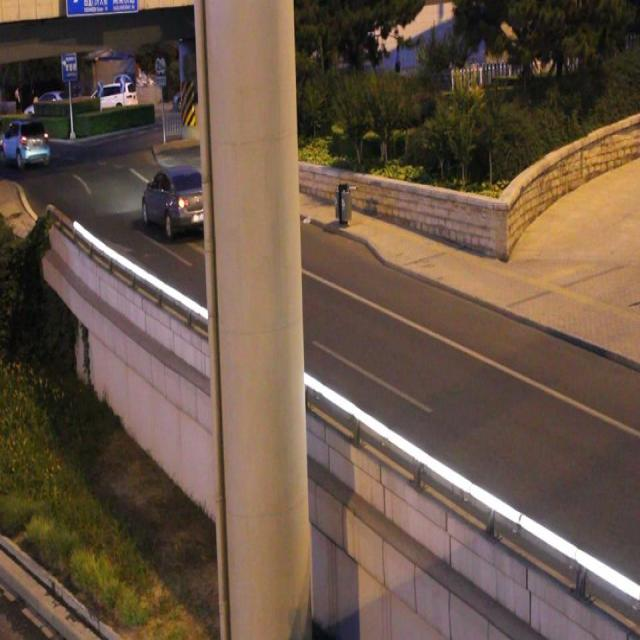car: (142, 171, 208, 228)
